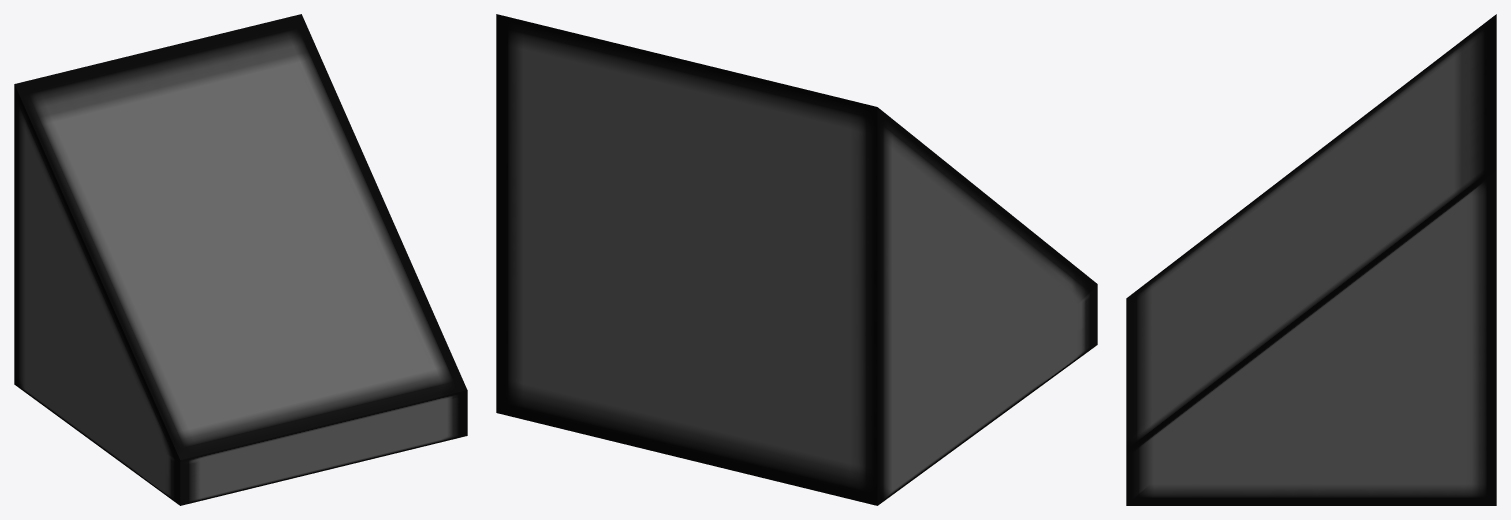
The model's file is iso_rampbox.fbx.
3 renders of one model, left to right at view 1: azimuth 30°, elevation 25°; view 2: azimuth 150°, elevation 25°; view 3: azimuth 270°, elevation 25°, orthographic. The views are drawn at different scales.
Parts seen in each view (by area): view 1: pCube4; view 2: pCube4; view 3: pCube4.
Boxes of the visible parts, x1,y1,x2,y2 form: pCube4: (14, 14, 467, 505); pCube4: (496, 14, 1097, 505); pCube4: (1126, 14, 1496, 505).
Bounding box in the file's own units: 1 × 1 × 1.
Materials: 1 (1 with a texture image).
